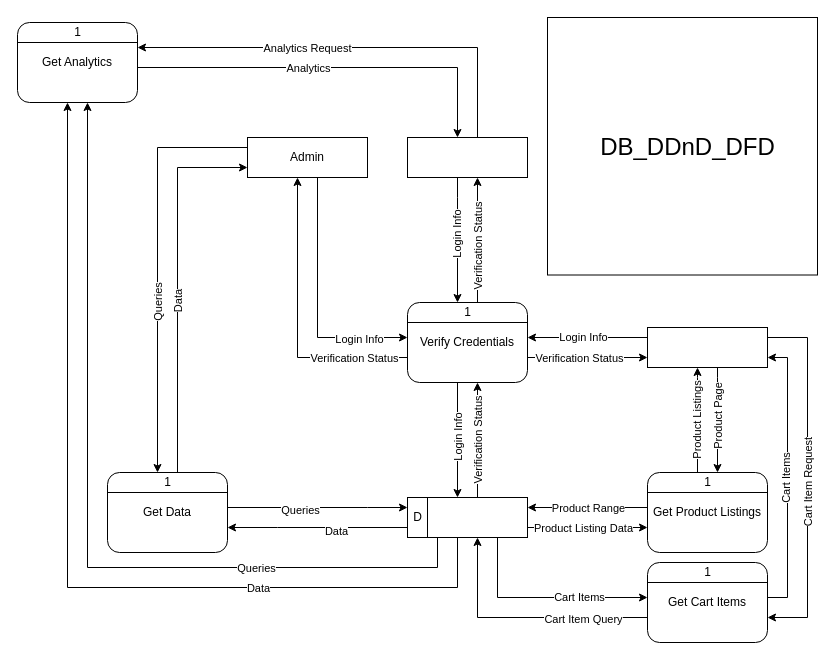
Some shapes in this 835 by 660 pixel diagram are drawn without their labels. The centre of each missing label's shape, as x and y in pixels:
Client: pixel 467 157
Customer: pixel 707 347
Database: pixel 477 517
